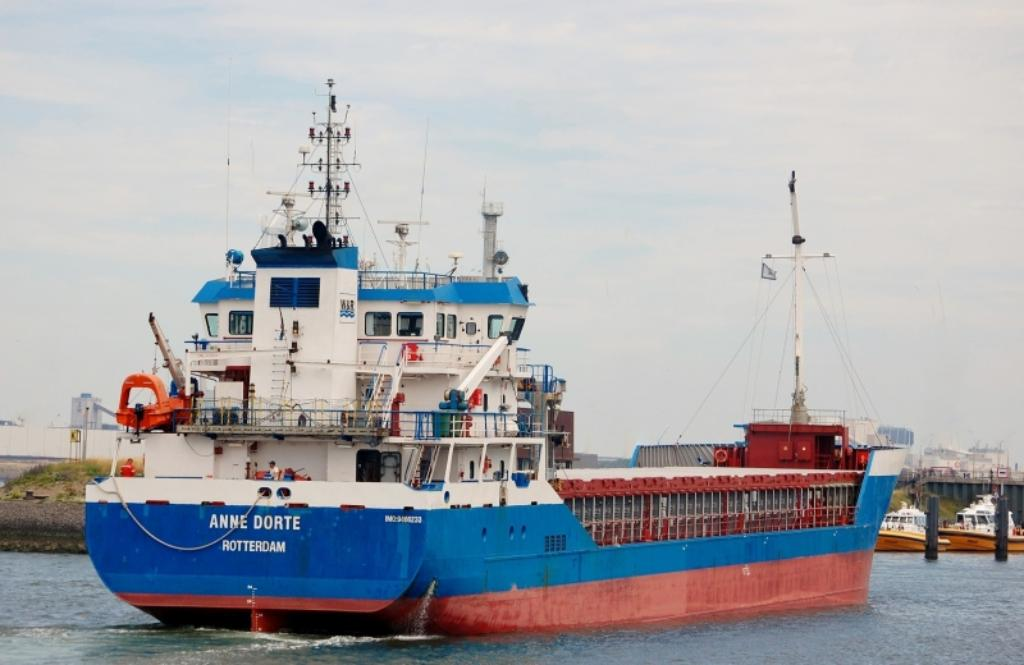PassengerShip: (938, 495, 1024, 556), (870, 500, 952, 556)
